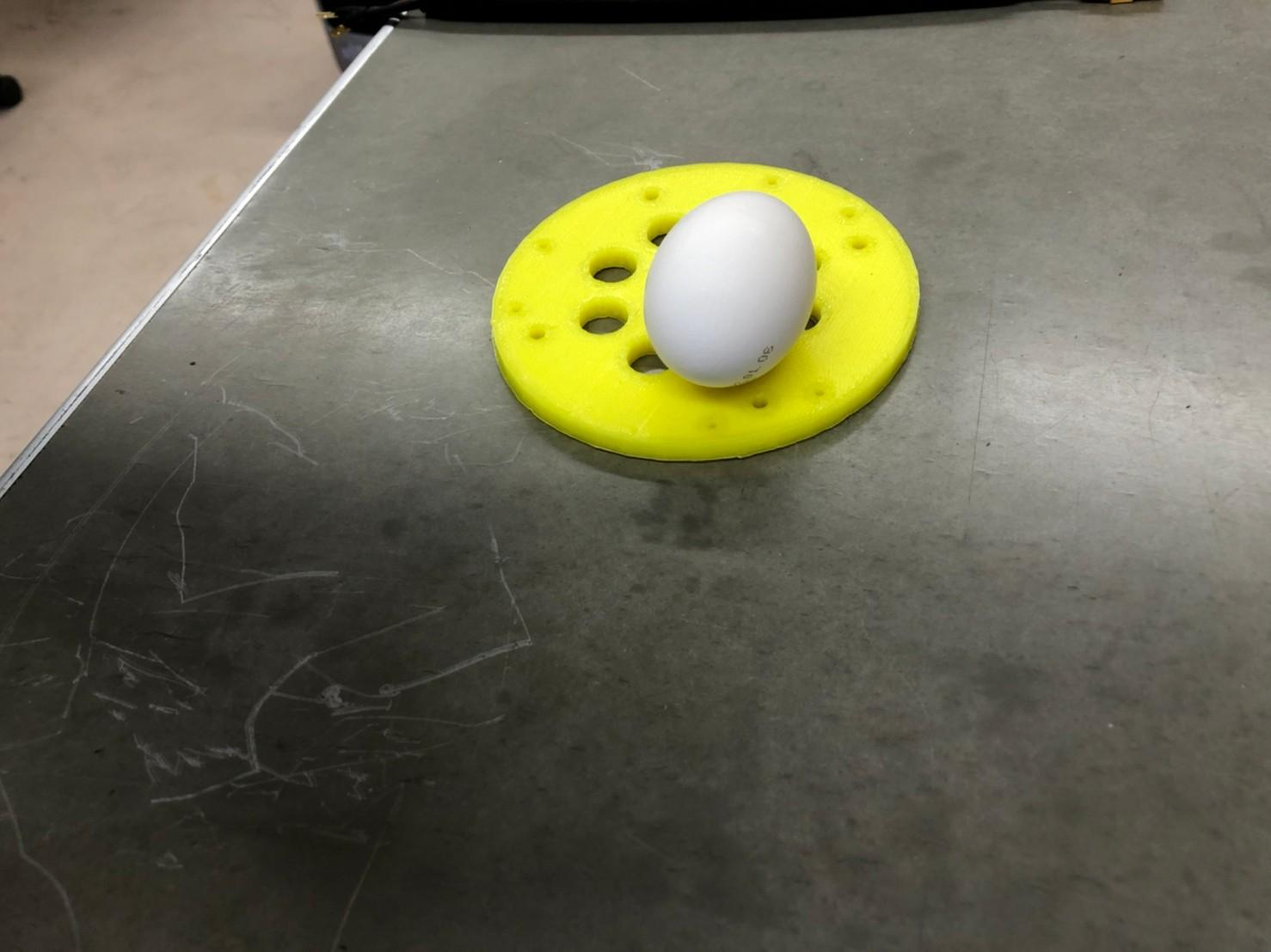egg: (639, 185, 817, 387)
